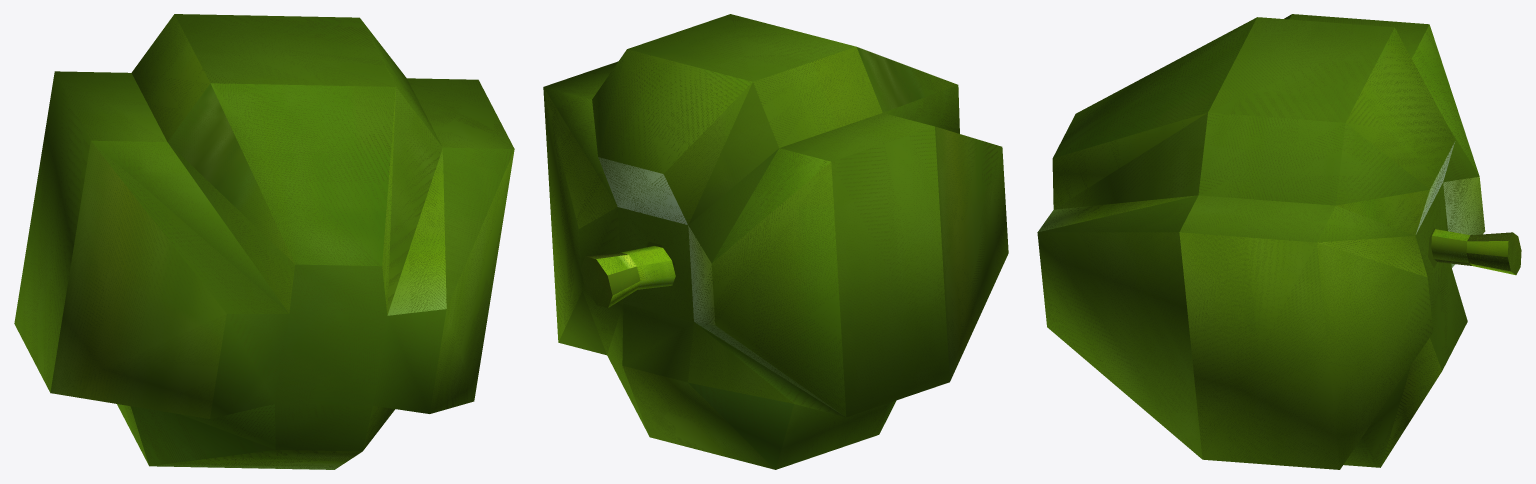
Rendered from green_pepper.dae.
The picture shows the model from 3 angles, left to right: view 1: azimuth 30°, elevation 25°; view 2: azimuth 150°, elevation 25°; view 3: azimuth 270°, elevation 25°; orthographic projection. The views are drawn at different scales.
Parts seen in each view (by area): view 1: Component_74; view 2: Component_74 (×2); view 3: Component_74 (×2).
Boxes of the visible parts, bbox=[...] form: Component_74: bbox=[14, 14, 514, 469]; Component_74 (×2): bbox=[543, 14, 1008, 469]; Component_74 (×2): bbox=[1037, 14, 1521, 469].
Bounding box in the file's own units: 3.58 × 3.71 × 3.32.
3 materials, 2 textured.
